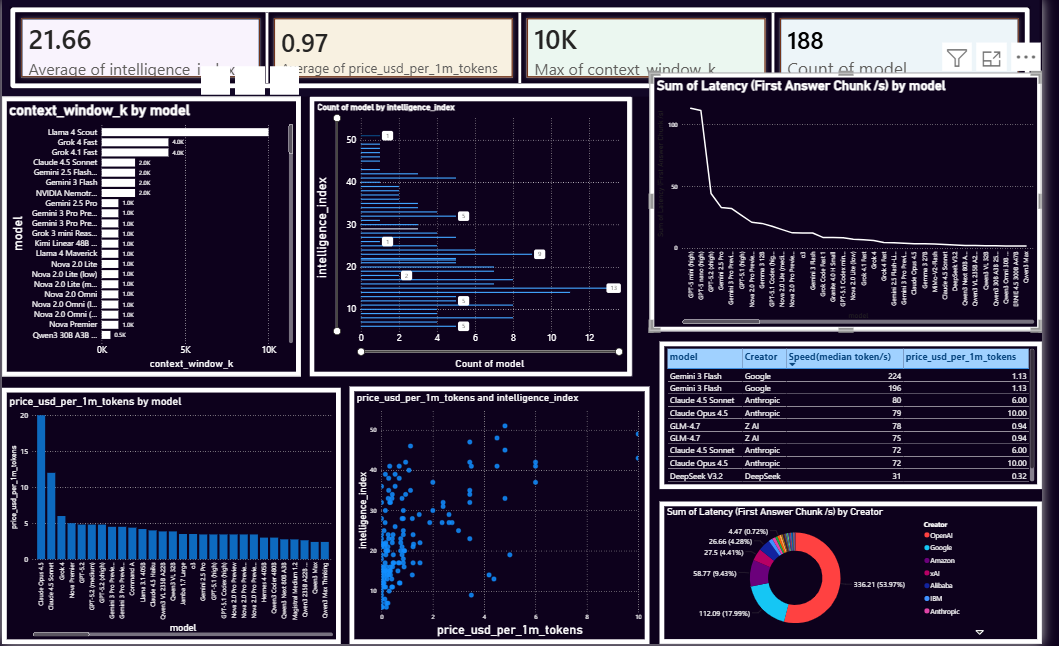

What the dashboard file says about the page in this screenshot:
{"tool":"powerbi","page":{"name":"Page 1","canvas":[2080,1290],"ordinal":0},"visuals":[{"type":"cardVisual","fields":{"Data":["Avg(cleaned_output1.intelligence_index)","Avg(cleaned_output1.price_usd_per_1m_tokens)","Max(cleaned_output1.context_window_k)","CountNonNull(cleaned_output1.model)"]},"box":[10,0,2070,195],"z":0},{"type":"barChart","fields":{"Y":["CountNonNull(cleaned_output1.model)"],"Category":["cleaned_output1.intelligence_index"]},"box":[10,195,665,515],"z":1000},{"type":"clusteredColumnChart","fields":{"Category":["cleaned_output1.model"],"Y":["Sum(cleaned_output1.price_usd_per_1m_tokens)"]},"box":[8,735,663,515],"z":2000},{"type":"clusteredBarChart","fields":{"Category":["cleaned_output1.model"],"Y":["Sum(cleaned_output1.context_window_k)"]},"box":[670,195,587.5,515],"z":3000},{"type":"scatterChart","fields":{"X":["cleaned_output1.price_usd_per_1m_tokens"],"Y":["cleaned_output1.intelligence_index"]},"box":[672,735,588,515],"z":4000},{"type":"lineChart","fields":{"Category":["cleaned_output1.model"],"Y":["Sum(cleaned_output1.Latency (First Answer Chunk /s))"]},"box":[1260,210,820,515],"z":5000}]}

Visuals, with their boxes on the page's 2080x1290 design canvas (x1, y1, x2, y2). These are canvas units, not pixel positions in the 1059x646 screenshot, which may show the page scaled, cropped or inside an application window:
cardVisual - Avg(cleaned_output1.intelligence_index) x Avg(cleaned_output1.price_usd_per_1m_tokens): {"left": 10, "top": 0, "right": 2080, "bottom": 195}
barChart - CountNonNull(cleaned_output1.model) x cleaned_output1.intelligence_index: {"left": 10, "top": 195, "right": 675, "bottom": 710}
clusteredColumnChart - cleaned_output1.model x Sum(cleaned_output1.price_usd_per_1m_tokens): {"left": 8, "top": 735, "right": 671, "bottom": 1250}
clusteredBarChart - cleaned_output1.model x Sum(cleaned_output1.context_window_k): {"left": 670, "top": 195, "right": 1258, "bottom": 710}
scatterChart - cleaned_output1.price_usd_per_1m_tokens x cleaned_output1.intelligence_index: {"left": 672, "top": 735, "right": 1260, "bottom": 1250}
lineChart - cleaned_output1.model x Sum(cleaned_output1.Latency (First Answer Chunk /s)): {"left": 1260, "top": 210, "right": 2080, "bottom": 725}
